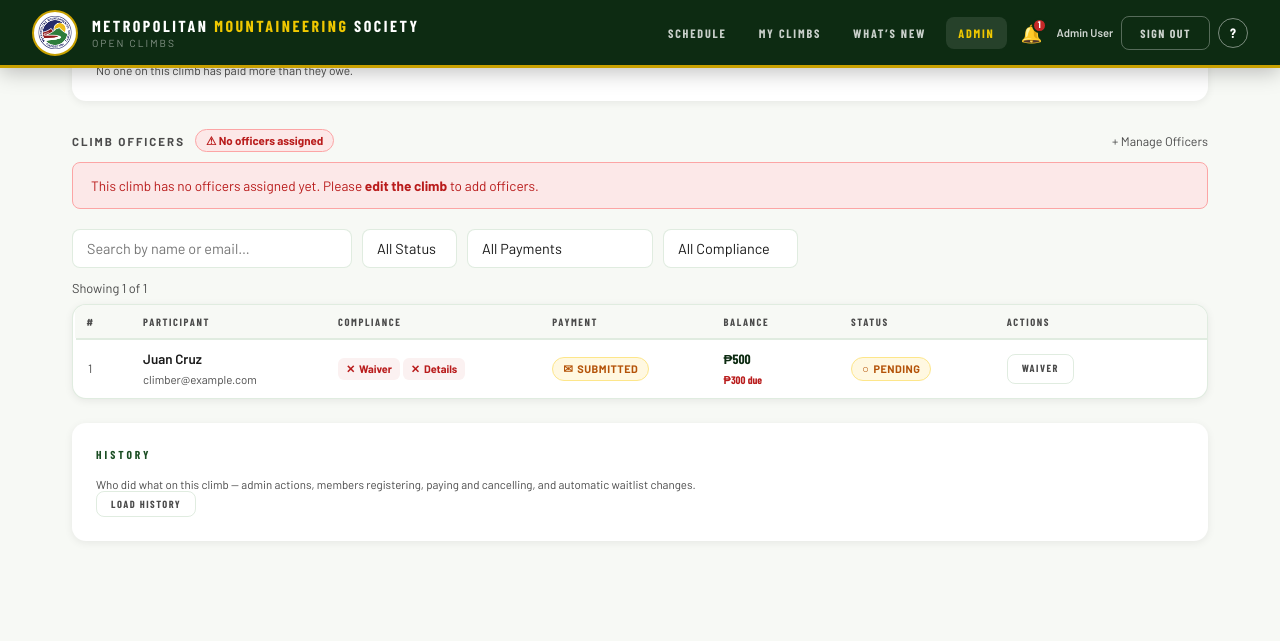
it: Admin ClimbDetail › opens the participant's Official Receipt with its payment log
(page scrolled)
Click the text "Juan Cruz" at point(172, 360), box top-left (143, 350), bottom-right (202, 370)
(page scrolled)
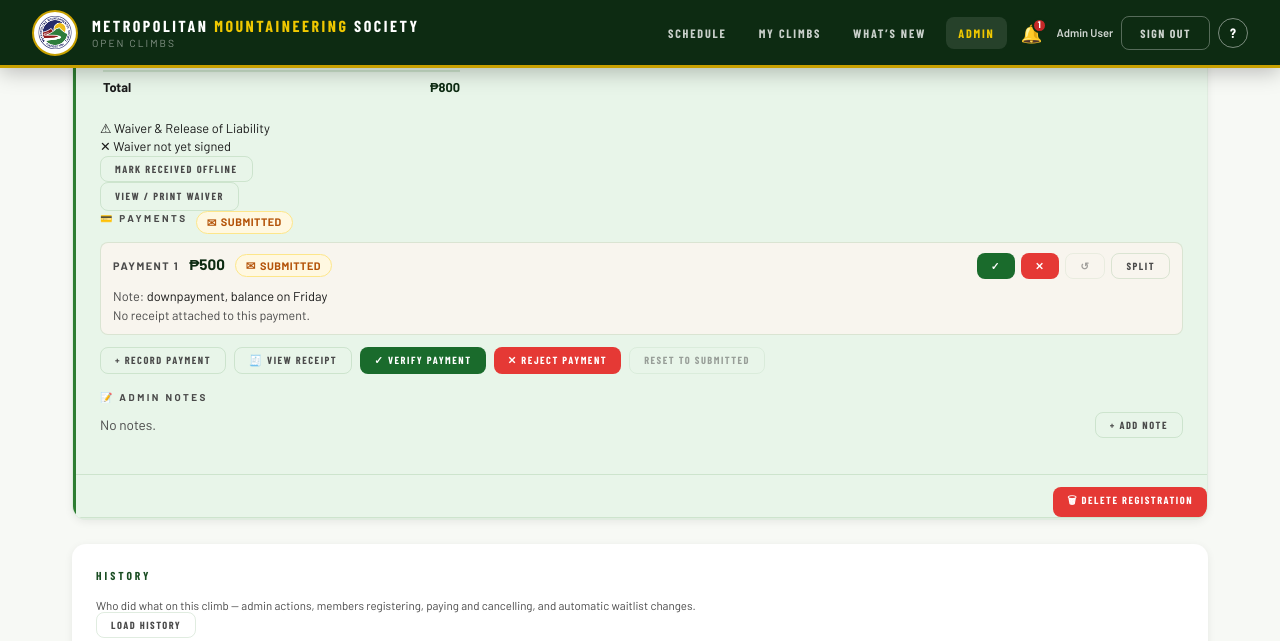
Check: the button "🧾 View Receipt" is shown
Click the button "🧾 View Receipt" at point(293, 360), box top-left (234, 347), bottom-right (352, 374)
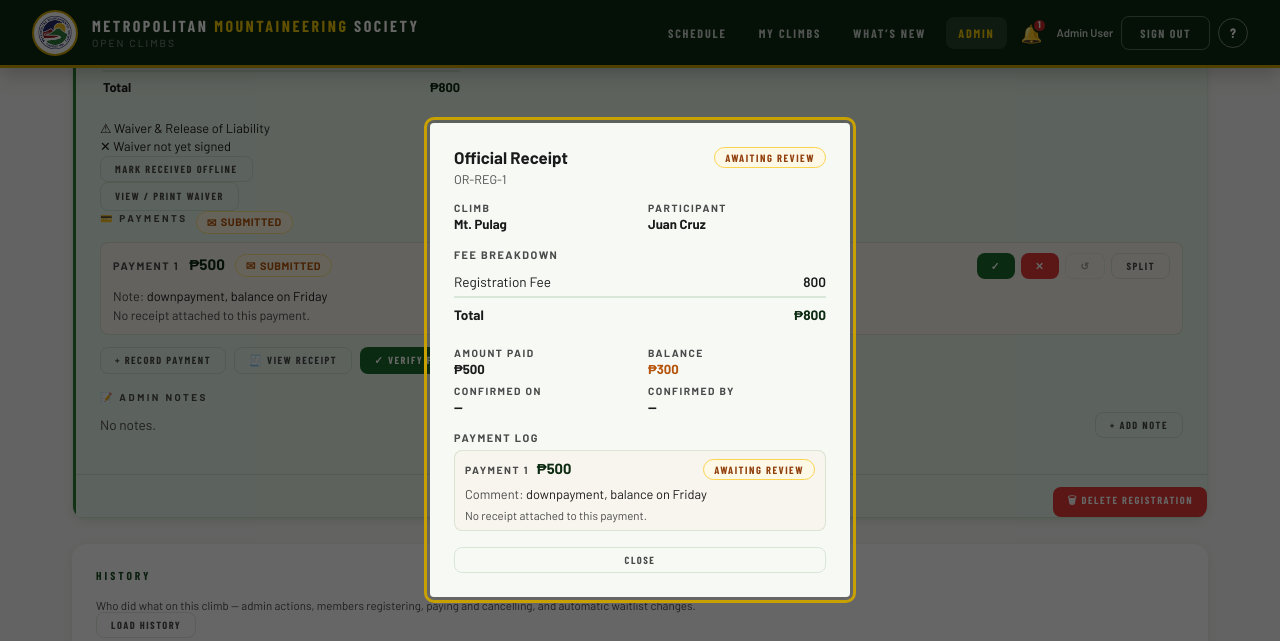
Check: the text "Note: downpayment, balance on Friday" is shown, box top-left (113, 288), bottom-right (327, 304)
Check: the heading "Official Receipt" is shown, box top-left (454, 147), bottom-right (568, 167)
Check: the text "Payment Log" is shown, box top-left (454, 431), bottom-right (539, 444)
